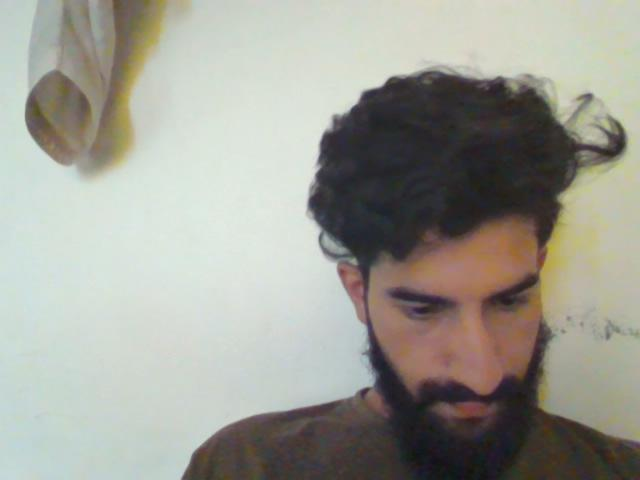hairnetless: (269, 41, 604, 289)
